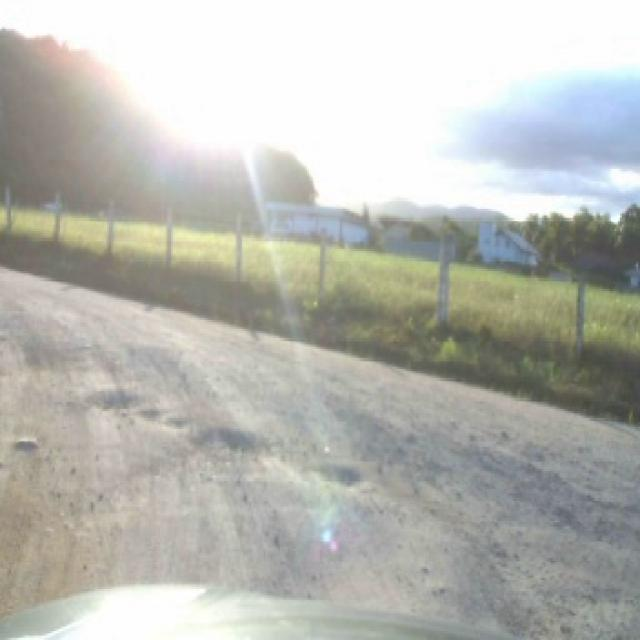Poth-hole: (193, 422, 258, 453), (318, 462, 360, 489), (85, 387, 131, 409), (9, 433, 40, 449), (162, 416, 190, 426), (136, 407, 158, 418)
